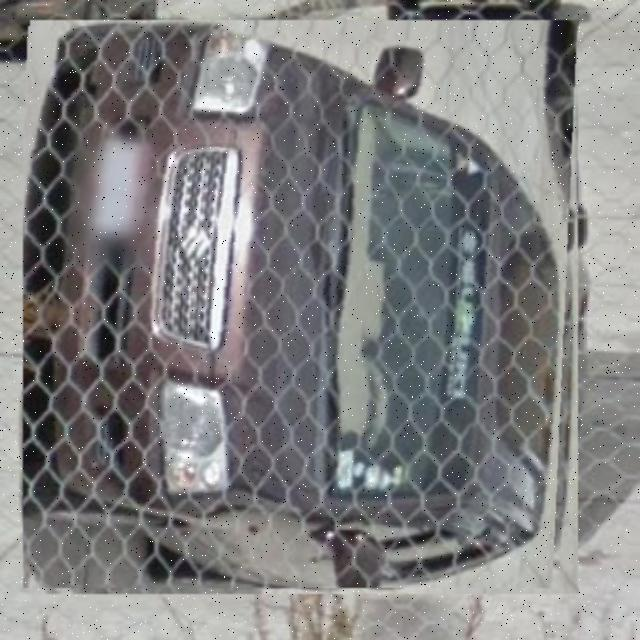car: (25, 27, 587, 589)
